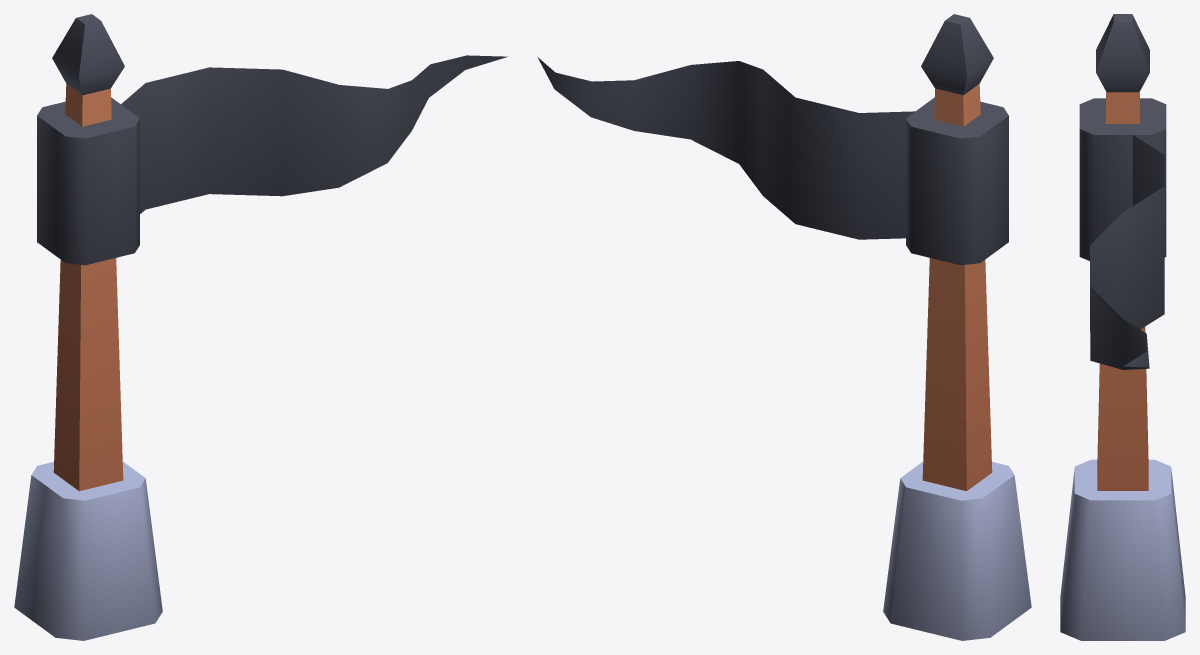
The model's file is pk_flag-pirate-pennant.glb.
3 renders of one model, left to right at view 1: azimuth 30°, elevation 25°; view 2: azimuth 150°, elevation 25°; view 3: azimuth 270°, elevation 25°, orthographic.
Parts seen in each view (by area): view 1: flag-pirate-pennant; view 2: flag-pirate-pennant; view 3: flag-pirate-pennant.
Part boxes in pixels (left/top/right/bottom): flag-pirate-pennant: left=14, top=14, right=507, bottom=640; flag-pirate-pennant: left=537, top=14, right=1031, bottom=640; flag-pirate-pennant: left=1060, top=14, right=1185, bottom=640.
Bounding box in the file's own units: 1.76 × 2.1 × 0.3989.
1 material, 1 textured.
